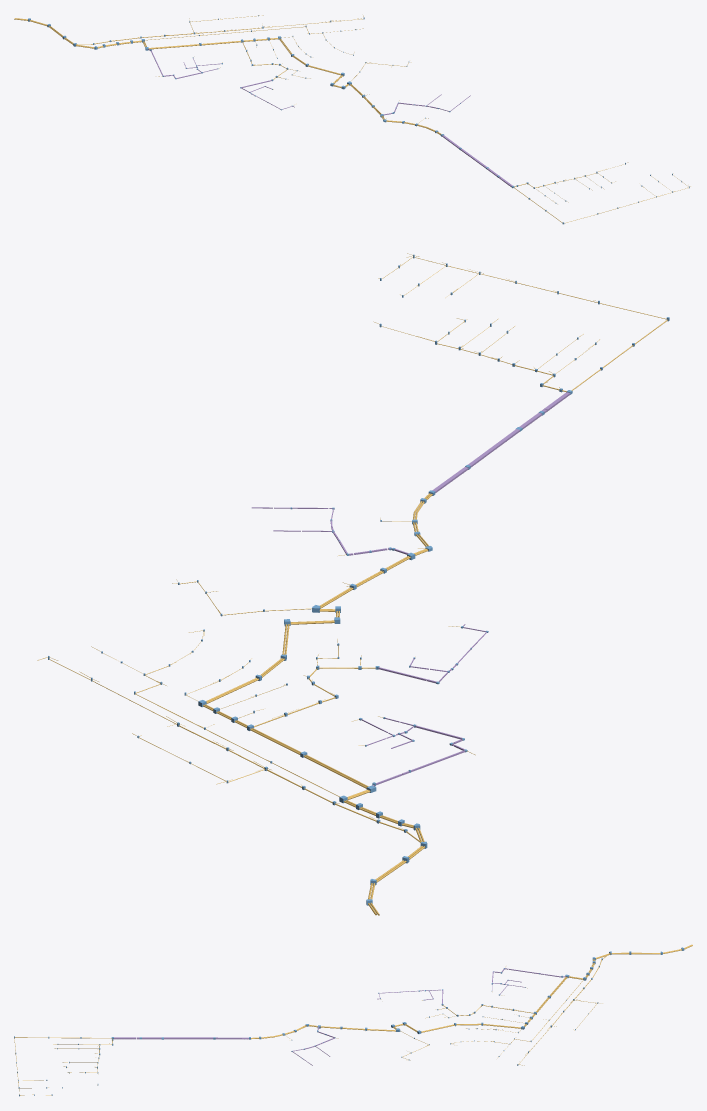
File: 500125-CSSP001-780-XX-MD-ST-000346.glb
The picture shows the model from 3 angles, top to bottom: view 1: azimuth 30°, elevation 25°; view 2: azimuth 150°, elevation 25°; view 3: azimuth 270°, elevation 25°; orthographic projection. The views are drawn at different scales.
Parts seen in each view (by area): view 1: 500125-CSSP001-780-XX-MD-ST-000346#TUB014; view 2: 500125-CSSP001-780-XX-MD-ST-000346#TUB014; view 3: 500125-CSSP001-780-XX-MD-ST-000346#TUB014, 500125-CSSP001-780-XX-MD-ST-000346#TUB047.
Part boxes in pixels (bbox=[...]): 500125-CSSP001-780-XX-MD-ST-000346#TUB014: bbox=[14, 16, 441, 134]; 500125-CSSP001-780-XX-MD-ST-000346#TUB014: bbox=[49, 493, 432, 915]; 500125-CSSP001-780-XX-MD-ST-000346#TUB014: bbox=[251, 944, 692, 1064]; 500125-CSSP001-780-XX-MD-ST-000346#TUB047: bbox=[14, 1037, 112, 1094].
Size of the model in its own units: 852 by 17.53 by 1552.
